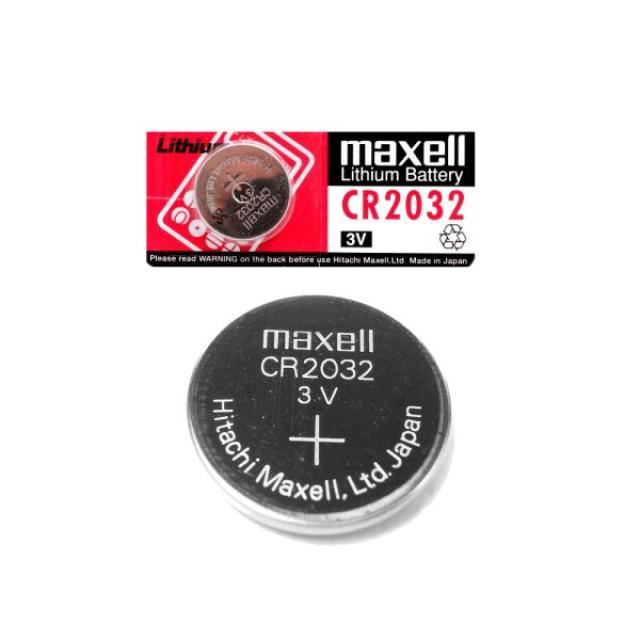battery: (188, 290, 453, 546), (191, 142, 291, 240)
